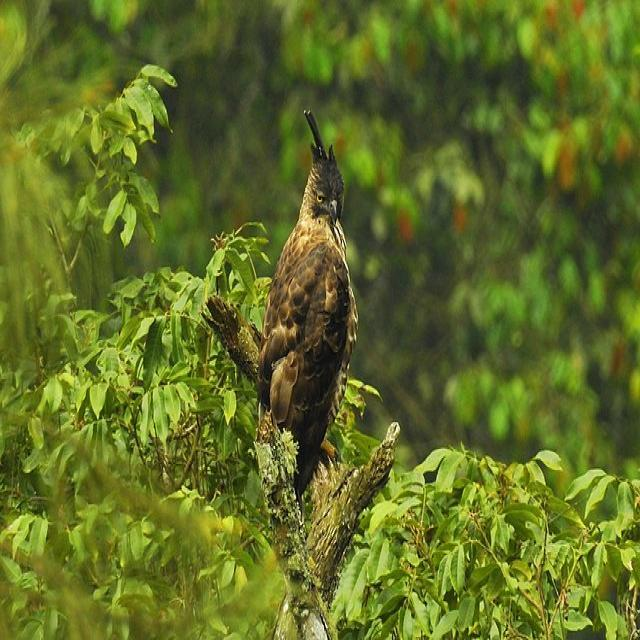Elang Jawa: (238, 83, 366, 530)
